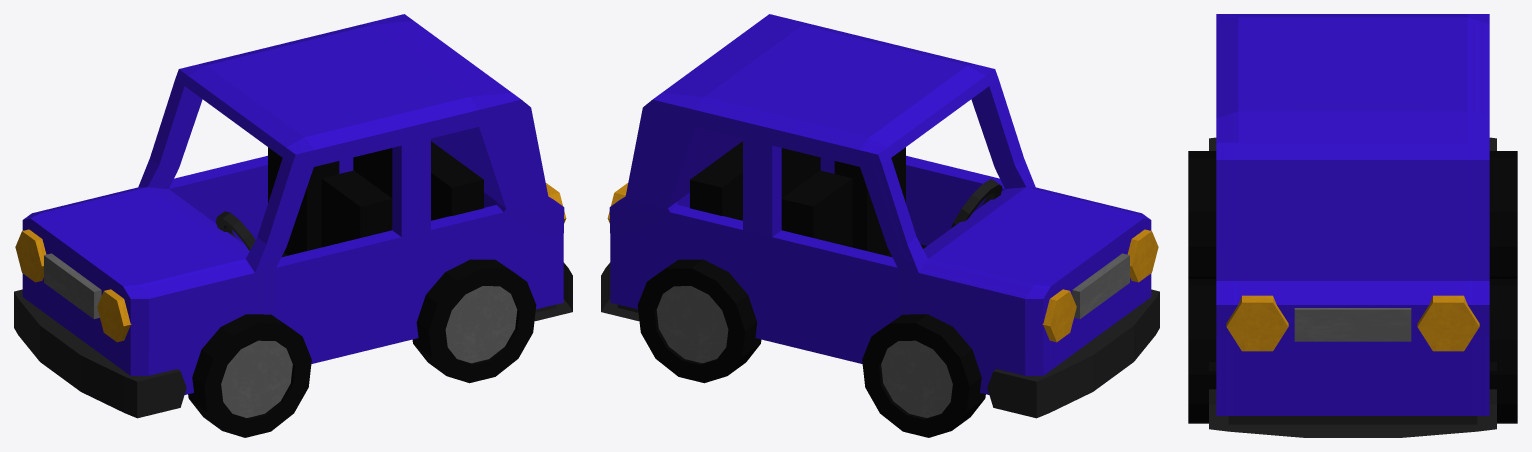
The model's file is mod_vehicle_SUV.fbx.
3 renders of one model, left to right at view 1: azimuth 30°, elevation 25°; view 2: azimuth 150°, elevation 25°; view 3: azimuth 270°, elevation 25°, orthographic. The views are drawn at different scales.
Parts seen in each view (by area): view 1: mesh_obj_veh_yugo_mainChassis, mesh_obj_veh_yugo_backWheel_L, mesh_obj_veh_yugo_frontWheel_L, mesh_obj_veh_yugo_steeringWheel; view 2: mesh_obj_veh_yugo_mainChassis, mesh_obj_veh_yugo_backWheel_R, mesh_obj_veh_yugo_frontWheel_R, mesh_obj_veh_yugo_steeringWheel; view 3: mesh_obj_veh_yugo_mainChassis, mesh_obj_veh_yugo_backWheel_L, mesh_obj_veh_yugo_backWheel_R, mesh_obj_veh_yugo_frontWheel_L, mesh_obj_veh_yugo_frontWheel_R.
Part boxes in pixels (left/top/right/bottom): mesh_obj_veh_yugo_mainChassis: left=14, top=14, right=572, bottom=418; mesh_obj_veh_yugo_backWheel_L: left=412, top=259, right=536, bottom=383; mesh_obj_veh_yugo_frontWheel_L: left=188, top=314, right=311, bottom=437; mesh_obj_veh_yugo_steeringWheel: left=216, top=211, right=255, bottom=250; mesh_obj_veh_yugo_mainChassis: left=601, top=14, right=1159, bottom=418; mesh_obj_veh_yugo_backWheel_R: left=637, top=259, right=761, bottom=383; mesh_obj_veh_yugo_frontWheel_R: left=862, top=314, right=985, bottom=437; mesh_obj_veh_yugo_steeringWheel: left=951, top=179, right=1002, bottom=228; mesh_obj_veh_yugo_mainChassis: left=1209, top=14, right=1496, bottom=437; mesh_obj_veh_yugo_backWheel_L: left=1188, top=279, right=1216, bottom=423; mesh_obj_veh_yugo_backWheel_R: left=1489, top=279, right=1517, bottom=423; mesh_obj_veh_yugo_frontWheel_L: left=1188, top=151, right=1216, bottom=278; mesh_obj_veh_yugo_frontWheel_R: left=1489, top=151, right=1517, bottom=278.
Bounding box in the file's own units: 690 × 1316 × 716.
